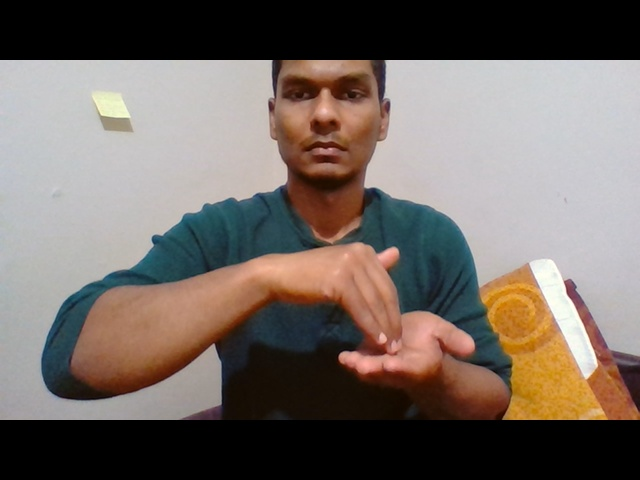ExcuseMe: (263, 240, 477, 400)
